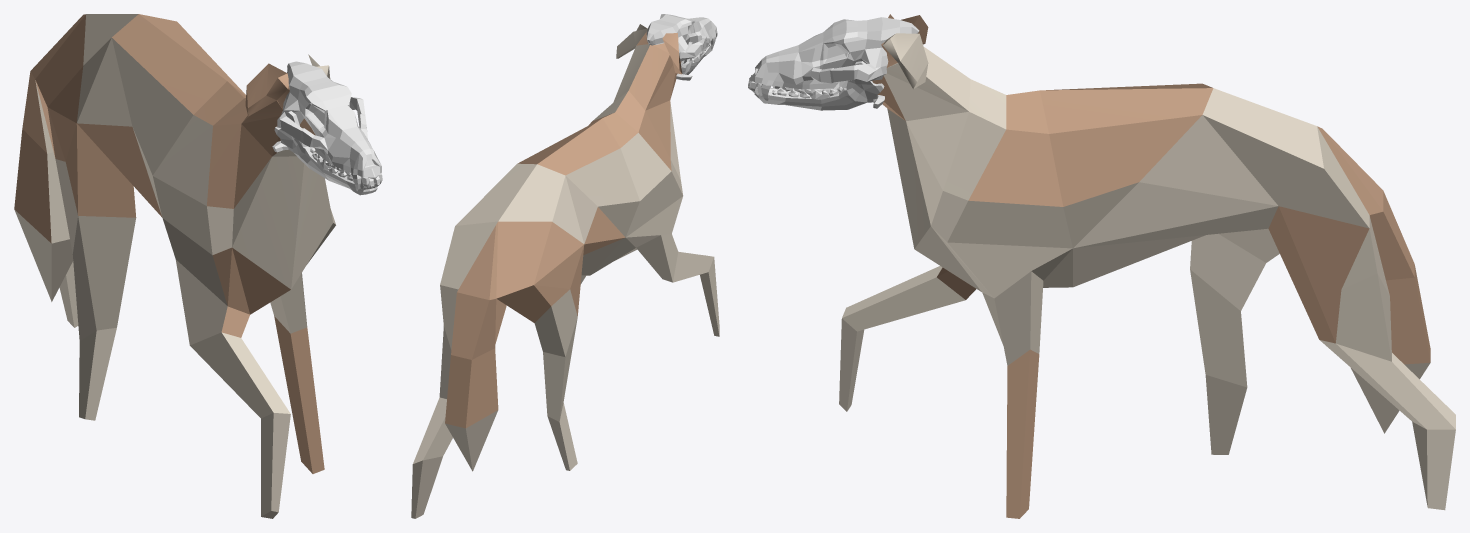
The model's file is skull-crearure.glb.
3 views of the same model, side by side, from view 1: azimuth 30°, elevation 25°; view 2: azimuth 150°, elevation 25°; view 3: azimuth 270°, elevation 25° (orthographic). The views are drawn at different scales.
Visible parts, largest first — view 1: pCube2, Plane, Cube; view 2: pCube2, Plane, Cube; view 3: pCube2, Plane, Cube.
Part boxes in pixels (left/top/right/bottom): pCube2: left=14, top=14, right=335, bottom=518; Plane: left=277, top=61, right=382, bottom=191; Cube: left=272, top=103, right=377, bottom=195; pCube2: left=411, top=24, right=719, bottom=518; Plane: left=646, top=14, right=717, bottom=61; Cube: left=676, top=41, right=713, bottom=80; pCube2: left=839, top=14, right=1455, bottom=518; Plane: left=748, top=17, right=919, bottom=100; Cube: left=754, top=61, right=884, bottom=110.
Bounding box in the file's own units: 2.21 × 6.77 × 9.4.
